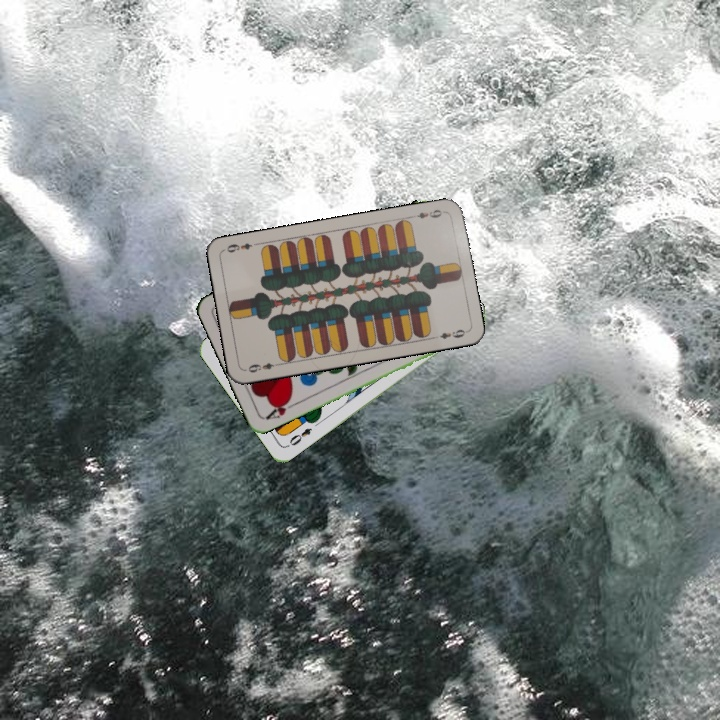E9: (242, 359, 282, 375), (407, 205, 447, 221)
EO: (283, 424, 315, 450)
HA: (262, 395, 300, 422)
